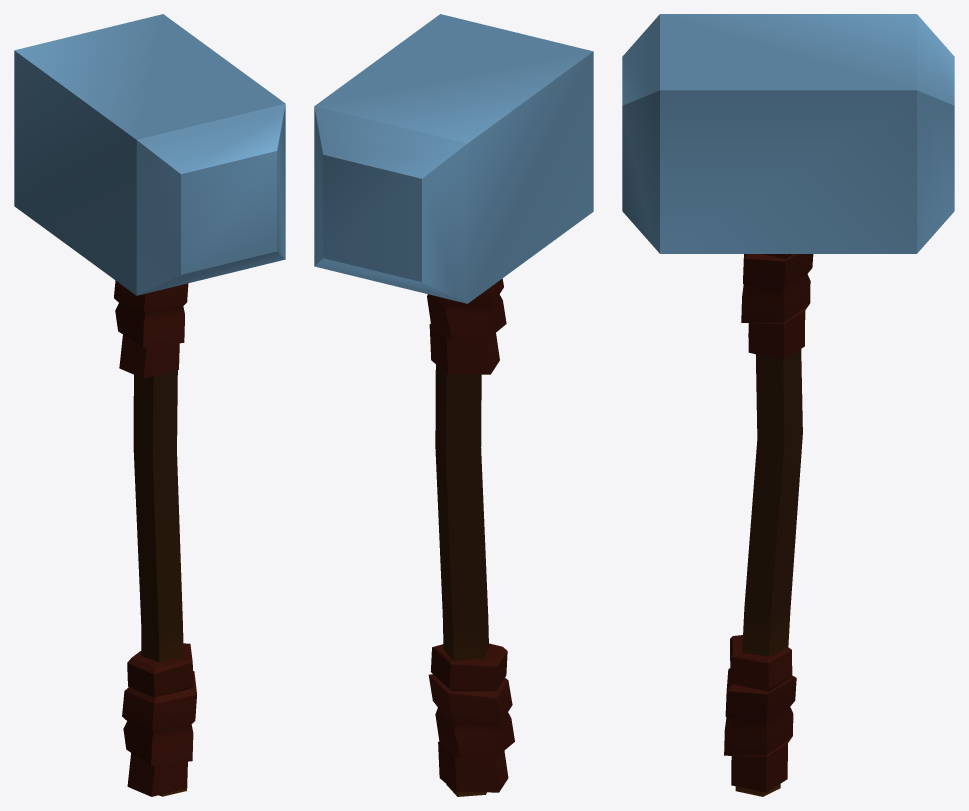
The model's file is Hammer_Steel.fbx.
3 renders of one model, left to right at view 1: azimuth 30°, elevation 25°; view 2: azimuth 150°, elevation 25°; view 3: azimuth 270°, elevation 25°, orthographic. The views are drawn at different scales.
Visible parts, largest first — view 1: Hammer_Steel; view 2: Hammer_Steel; view 3: Hammer_Steel.
Boxes of the visible parts, left/top/right/bottom form: Hammer_Steel: left=14, top=14, right=285, bottom=796; Hammer_Steel: left=314, top=14, right=593, bottom=796; Hammer_Steel: left=622, top=14, right=954, bottom=796.
Size of the model in its own units: 48.35 by 217 by 88.95.
